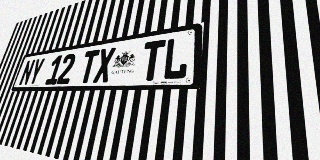1: (45, 55, 64, 85)
2: (56, 53, 77, 84)
L: (162, 36, 190, 80)
N: (18, 59, 36, 86)
T: (139, 39, 166, 81), (78, 49, 100, 83)
X: (93, 47, 116, 83)
Y: (27, 58, 46, 85)
